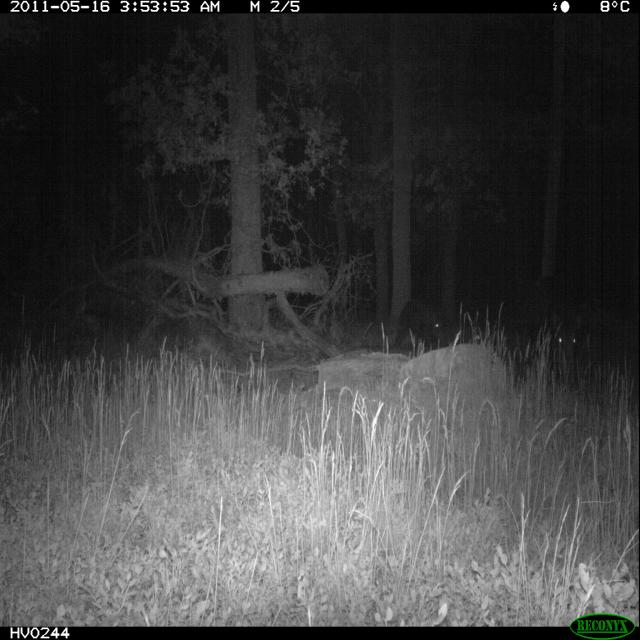boar: (542, 286, 616, 418), (393, 281, 471, 376)
